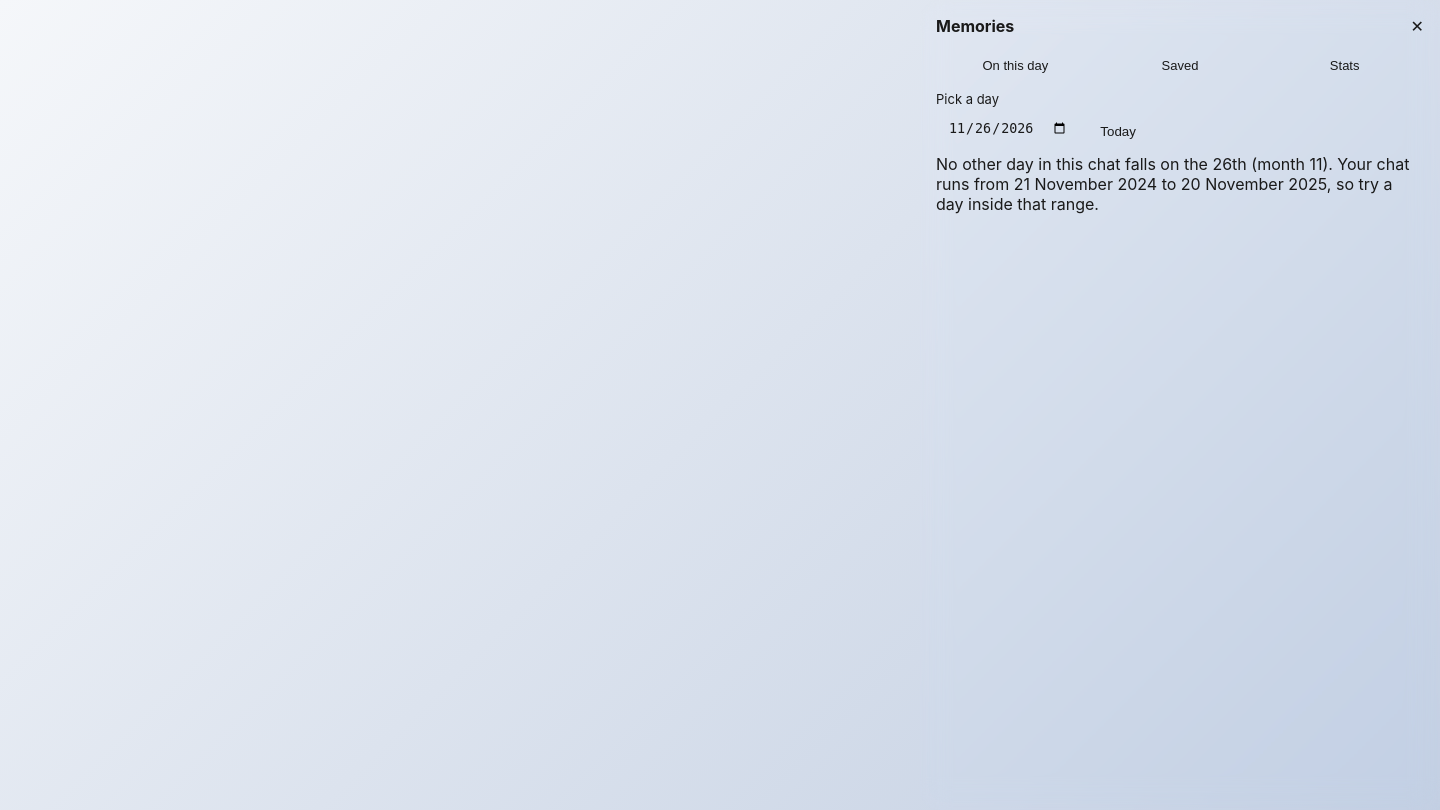
Test case: On this day › explains when nothing matches
The image size is (1440, 810).
Type "2025-03-09" into the date field labelled "Pick a day" at (1008, 129), box top-left (936, 111), bottom-right (1080, 146)
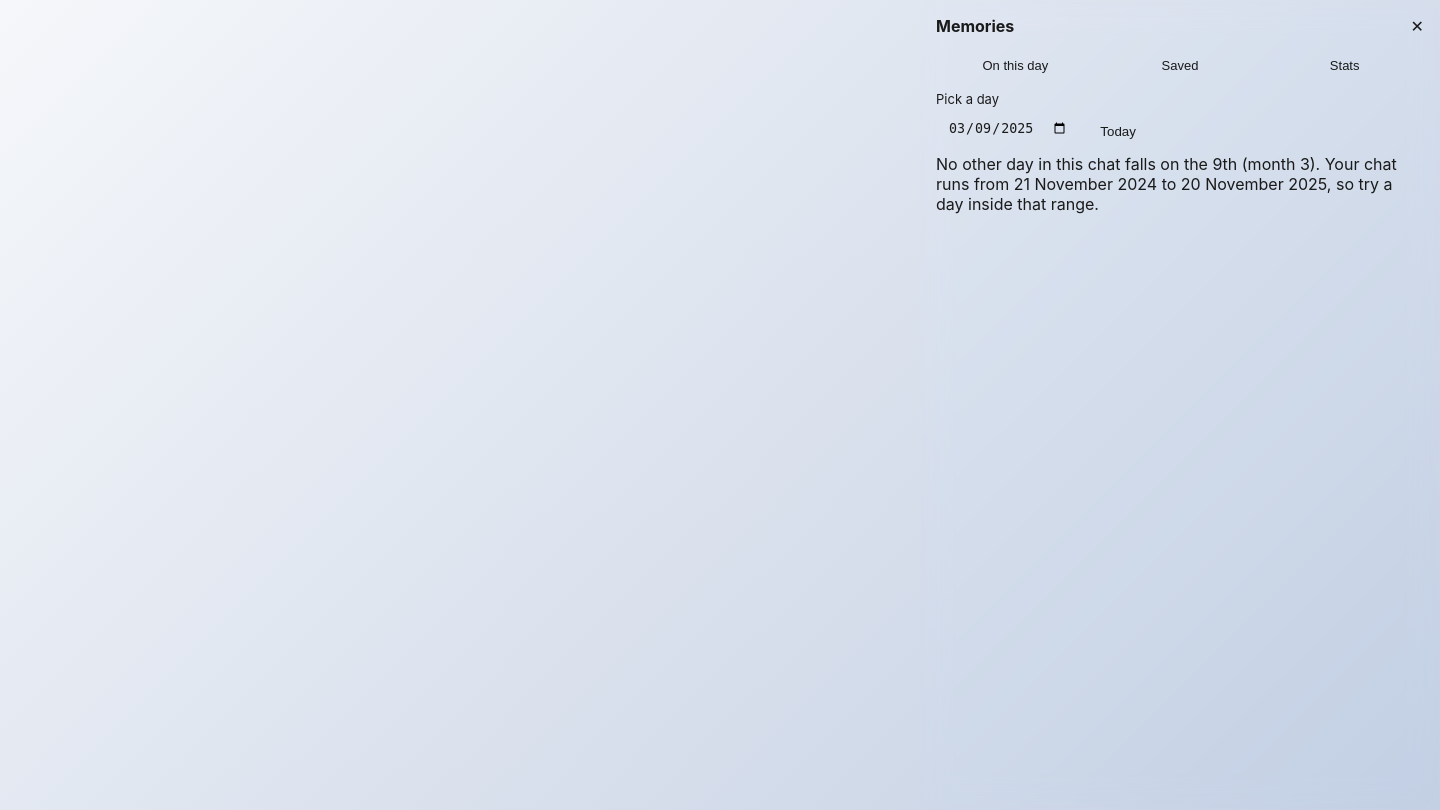
expect the text "No other day in this chat falls on the 9th" is shown: met, box top-left (936, 154), bottom-right (1424, 214)
